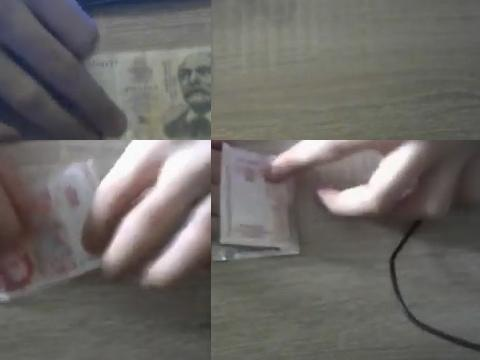5leva: (0, 163, 100, 304), (213, 144, 297, 260)
